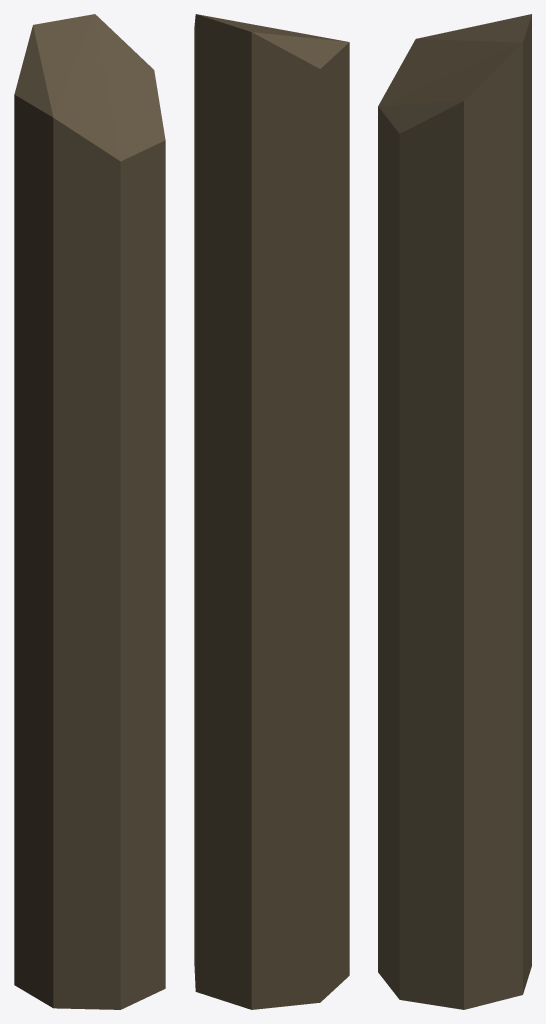
Rendered from EVT_CASTLE_LIFT_02.OBJ.
3 renders of one model, left to right at view 1: azimuth 30°, elevation 25°; view 2: azimuth 150°, elevation 25°; view 3: azimuth 270°, elevation 25°, orthographic. The views are drawn at different scales.
Visible parts, largest first — view 1: EVT_CASTLE_LIFT_02; view 2: EVT_CASTLE_LIFT_02; view 3: EVT_CASTLE_LIFT_02.
Boxes of the visible parts, x1,y1,x2,y2 form: EVT_CASTLE_LIFT_02: (14,14,165,1009); EVT_CASTLE_LIFT_02: (194,14,349,1009); EVT_CASTLE_LIFT_02: (378,14,531,1009).
Bounding box in the file's own units: 1.93 × 13.26 × 1.94.
